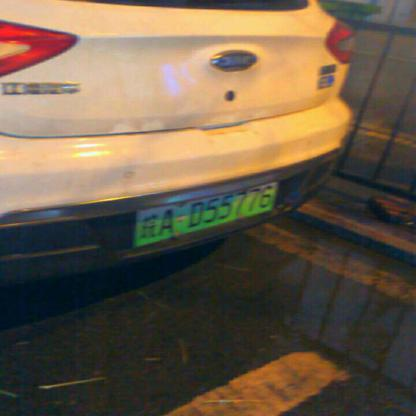lp: (137, 179, 277, 250)
